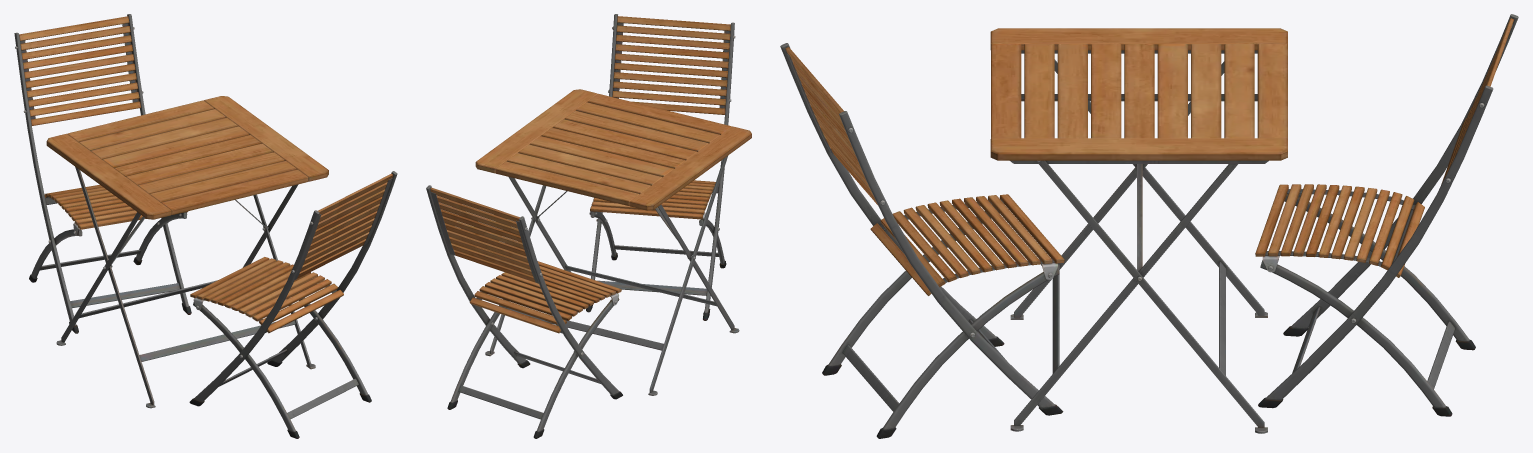
Rendered from outdoor_table_chair_set_01.glb.
3 views of the same model, side by side, from view 1: azimuth 30°, elevation 25°; view 2: azimuth 150°, elevation 25°; view 3: azimuth 270°, elevation 25° (orthographic). The views are drawn at different scales.
Visible parts, largest first — view 1: outdoor_table_chair_set_01_table, outdoor_table_chair_set_01_chair_02, outdoor_table_chair_set_01_chair_01; view 2: outdoor_table_chair_set_01_table, outdoor_table_chair_set_01_chair_02, outdoor_table_chair_set_01_chair_01; view 3: outdoor_table_chair_set_01_table, outdoor_table_chair_set_01_chair_01, outdoor_table_chair_set_01_chair_02.
Boxes of the visible parts, x1=… form: outdoor_table_chair_set_01_table: x1=46, y1=96, x2=328, y2=408; outdoor_table_chair_set_01_chair_02: x1=14, y1=14, x2=191, y2=333; outdoor_table_chair_set_01_chair_01: x1=189, y1=171, x2=397, y2=438; outdoor_table_chair_set_01_table: x1=475, y1=89, x2=751, y2=395; outdoor_table_chair_set_01_chair_02: x1=426, y1=185, x2=622, y2=438; outdoor_table_chair_set_01_chair_01: x1=586, y1=14, x2=735, y2=320; outdoor_table_chair_set_01_table: x1=990, y1=28, x2=1287, y2=433; outdoor_table_chair_set_01_chair_01: x1=780, y1=43, x2=1064, y2=438; outdoor_table_chair_set_01_chair_02: x1=1255, y1=14, x2=1518, y2=416.
Bounding box in the file's own units: 0.7417 × 0.8586 × 1.72.
2 materials, 2 textured.
